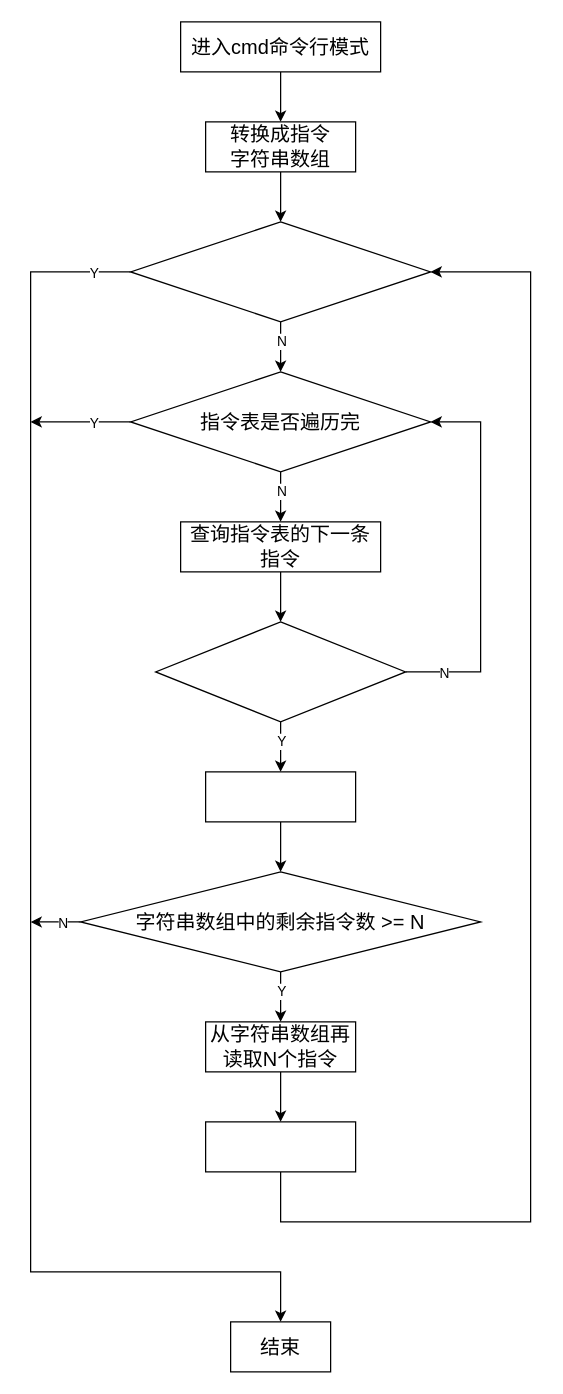
This 563x1394 diagram has some shape labels left out. The shapes that lost their labels are listed below. From the top down, each one's centre as x and y in pixels, then its label:
At (280,271): "命令组 是否遍历完".
At (280,671): "指令是否匹配".
At (280,796): "读取指令所需的参数的个数N".
At (280,1146): "执行对应的 工具接口".
